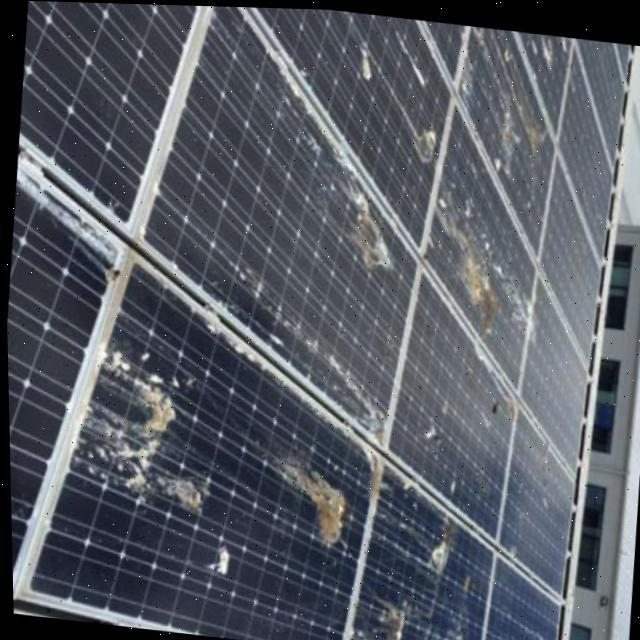Anomaly Solar Panel: (20, 251, 379, 640), (136, 5, 418, 442), (252, 6, 454, 253), (380, 261, 514, 539), (420, 99, 537, 390), (343, 456, 491, 640), (454, 23, 557, 259), (479, 550, 556, 640), (515, 28, 574, 138)
Surface Contaminant: (215, 248, 399, 446), (61, 345, 242, 530), (321, 8, 446, 171), (414, 182, 516, 334), (459, 23, 547, 175), (259, 435, 367, 552), (316, 153, 394, 276), (464, 333, 517, 425), (338, 592, 419, 640), (414, 513, 462, 583), (485, 607, 550, 640), (426, 597, 459, 640), (526, 29, 556, 70), (553, 32, 568, 48)
